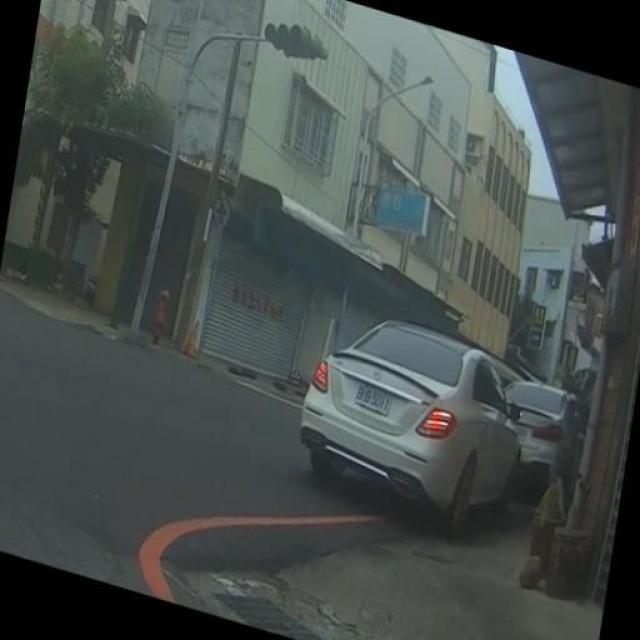illegalparking: (281, 275, 552, 585)
